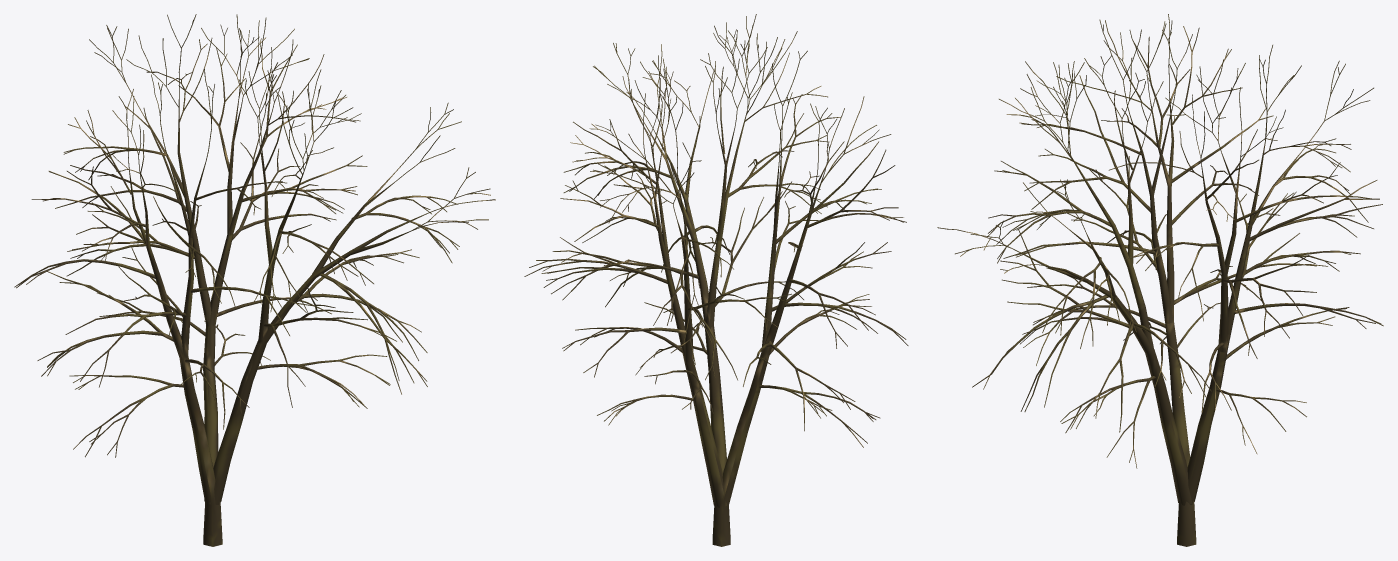
The model's file is arvore_seca.glb.
The picture shows the model from 3 angles, left to right: view 1: azimuth 30°, elevation 25°; view 2: azimuth 150°, elevation 25°; view 3: azimuth 270°, elevation 25°; orthographic projection. The views are drawn at different scales.
Visible parts, largest first — view 1: tree; view 2: tree; view 3: tree.
Part boxes in pixels (left/top/right/bottom): tree: left=14, top=14, right=495, bottom=546; tree: left=524, top=14, right=908, bottom=546; tree: left=937, top=14, right=1383, bottom=546.
Bounding box in the file's own units: 2.26 × 2.87 × 2.3.
1 material, 1 textured.
